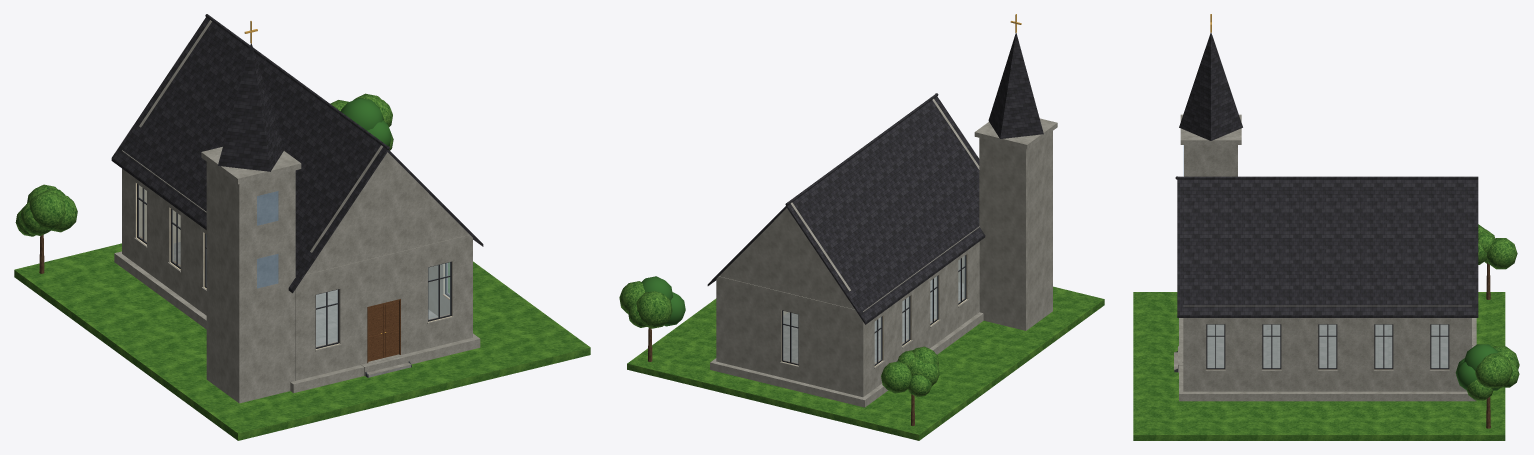
Rendered from b_stone_chapel.gltf.
The picture shows the model from 3 angles, left to right: view 1: azimuth 30°, elevation 25°; view 2: azimuth 150°, elevation 25°; view 3: azimuth 270°, elevation 25°; orthographic projection. The views are drawn at different scales.
Parts seen in each view (by area): view 1: S_stone_chapel, D_stone_chapel_F1_S2_Door1, D_stone_chapel_F1_S2_Door0; view 2: S_stone_chapel; view 3: S_stone_chapel.
Part boxes in pixels (x1,y1,x2,y2): S_stone_chapel: (14, 14, 590, 440); D_stone_chapel_F1_S2_Door1: (383, 300, 398, 357); D_stone_chapel_F1_S2_Door0: (368, 304, 382, 361); S_stone_chapel: (619, 14, 1104, 440); S_stone_chapel: (1133, 14, 1519, 440).
Bounding box in the file's own units: 21.19 × 20.1 × 22.85.
Materials: 19 (11 with a texture image).
